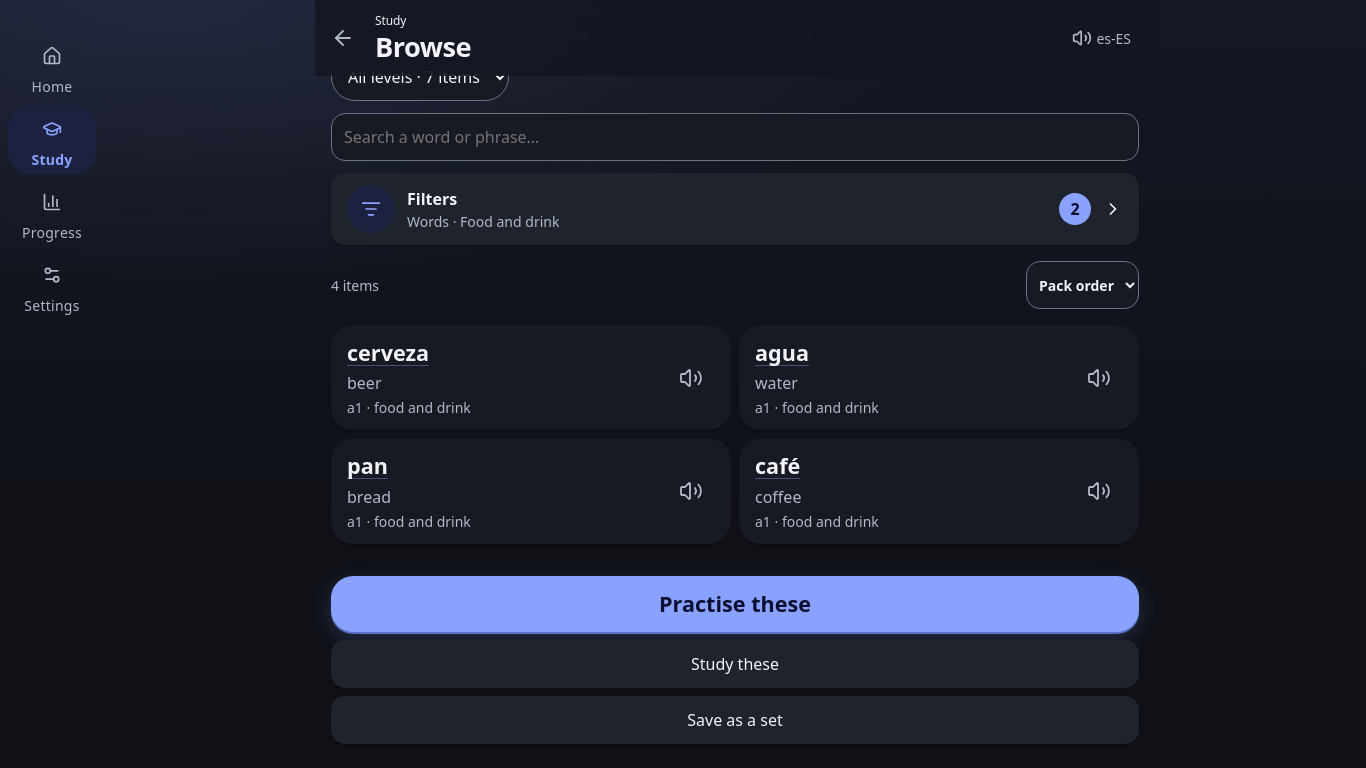
Scenario: making a set on Browse › offers only sizes the sheet can fill
(page scrolled)
Step 1. Click the button "Save as a set" → [735, 720], box 331,696 -> 1139,744
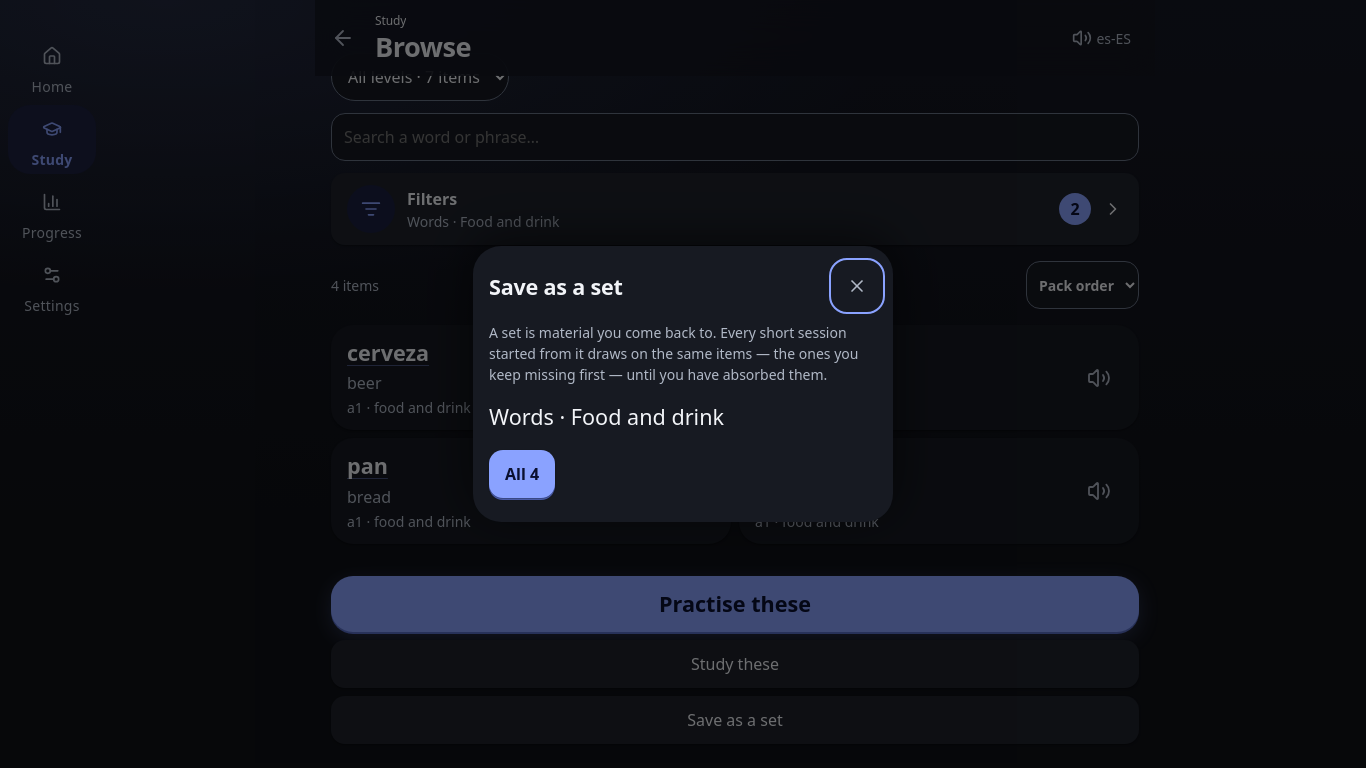
Expected: the button "All 4" is shown, 489,450 -> 555,498
